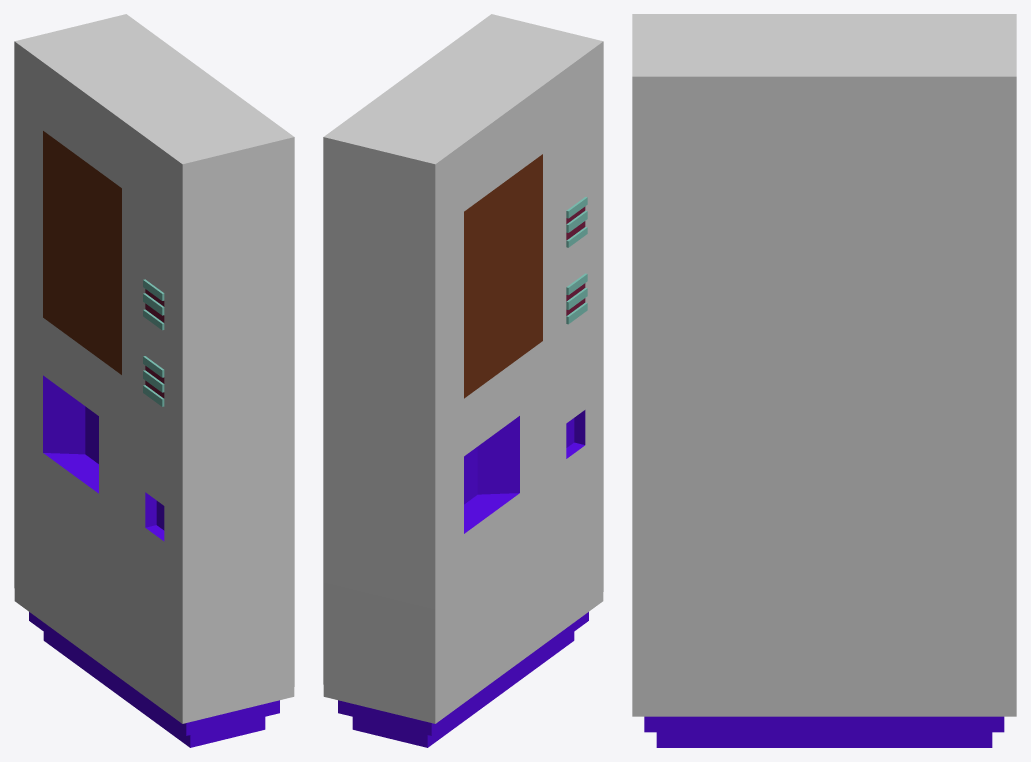
Rendered from FBX_MachineACafe.fbx.
3 views of the same model, side by side, from view 1: azimuth 30°, elevation 25°; view 2: azimuth 150°, elevation 25°; view 3: azimuth 270°, elevation 25° (orthographic). The views are drawn at different scales.
Parts seen in each view (by area): view 1: Box001; view 2: Box001; view 3: Box001.
Part boxes in pixels (left/top/right/bottom): Box001: left=14, top=14, right=294, bottom=747; Box001: left=323, top=14, right=603, bottom=747; Box001: left=632, top=14, right=1016, bottom=747.
Bounding box in the file's own units: 0.5099 × 2.54 × 1.3.
